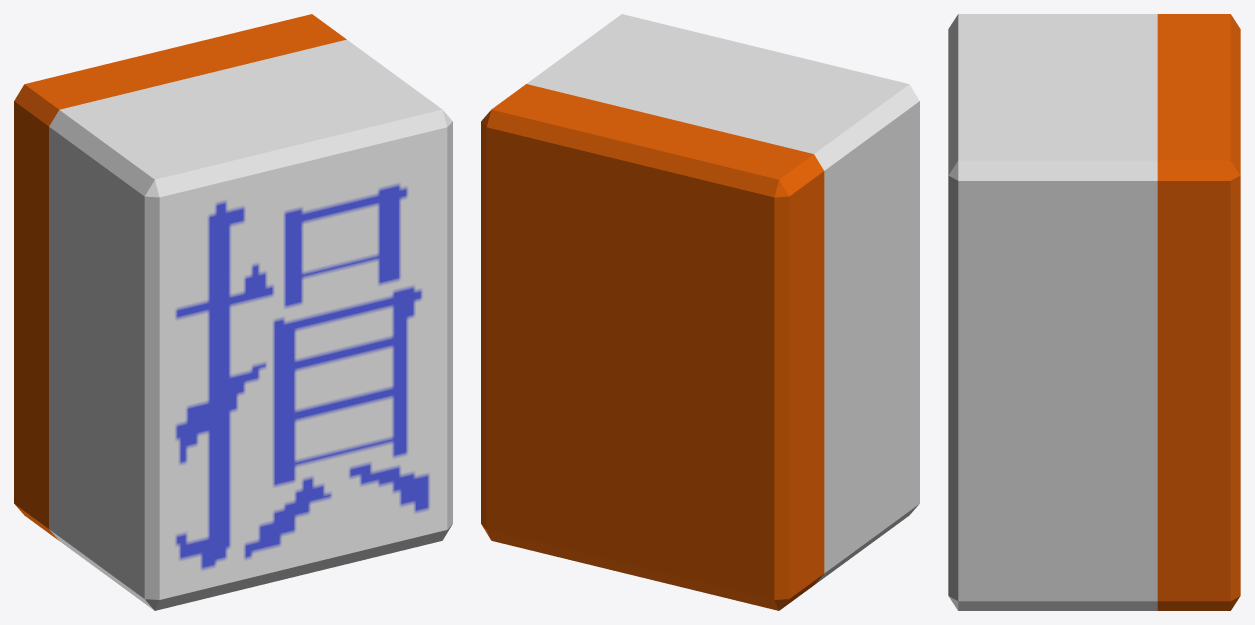
File: Son.gltf
3 renders of one model, left to right at view 1: azimuth 30°, elevation 25°; view 2: azimuth 150°, elevation 25°; view 3: azimuth 270°, elevation 25°, orthographic. The views are drawn at different scales.
Parts seen in each view (by area): view 1: Cube; view 2: Cube; view 3: Cube.
Boxes of the visible parts, x1,y1,x2,y2 form: Cube: [14, 14, 452, 610]; Cube: [481, 14, 919, 610]; Cube: [948, 14, 1240, 610].
Size of the model in its own units: 1.95 by 2.6 by 1.53.
3 materials, 1 textured.
